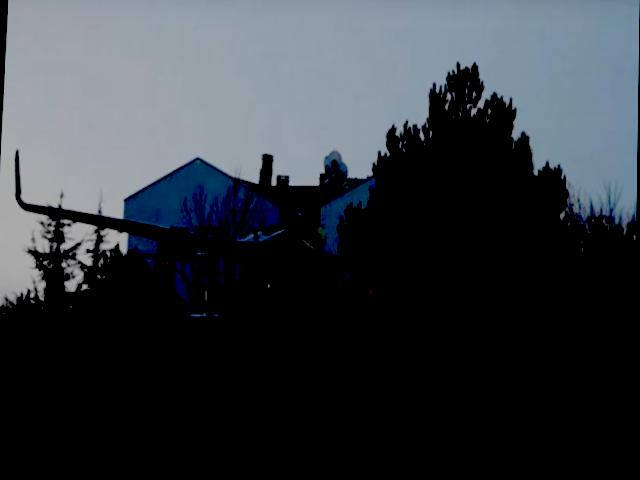iha: (0, 138, 577, 304)
